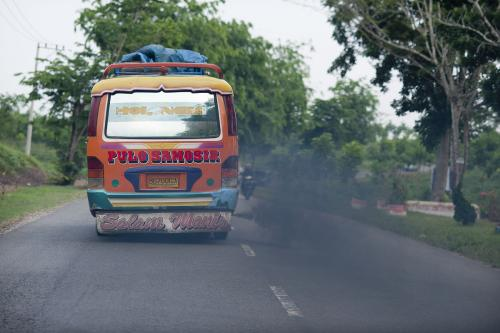smoke: (241, 177, 402, 261)
